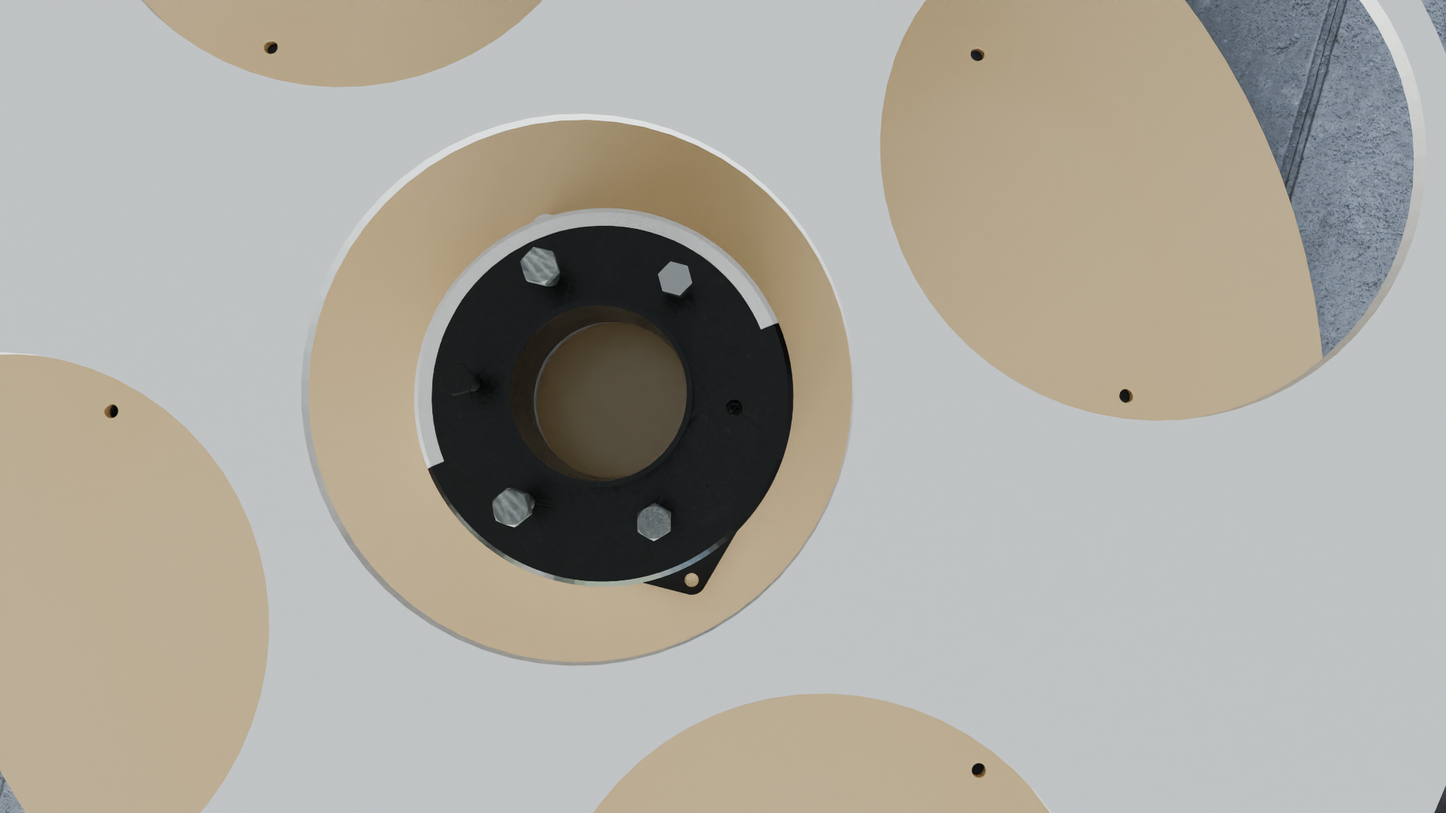bolt: (520, 247, 558, 284), (493, 488, 529, 527), (637, 504, 670, 541), (658, 261, 692, 296), (441, 364, 472, 395)
